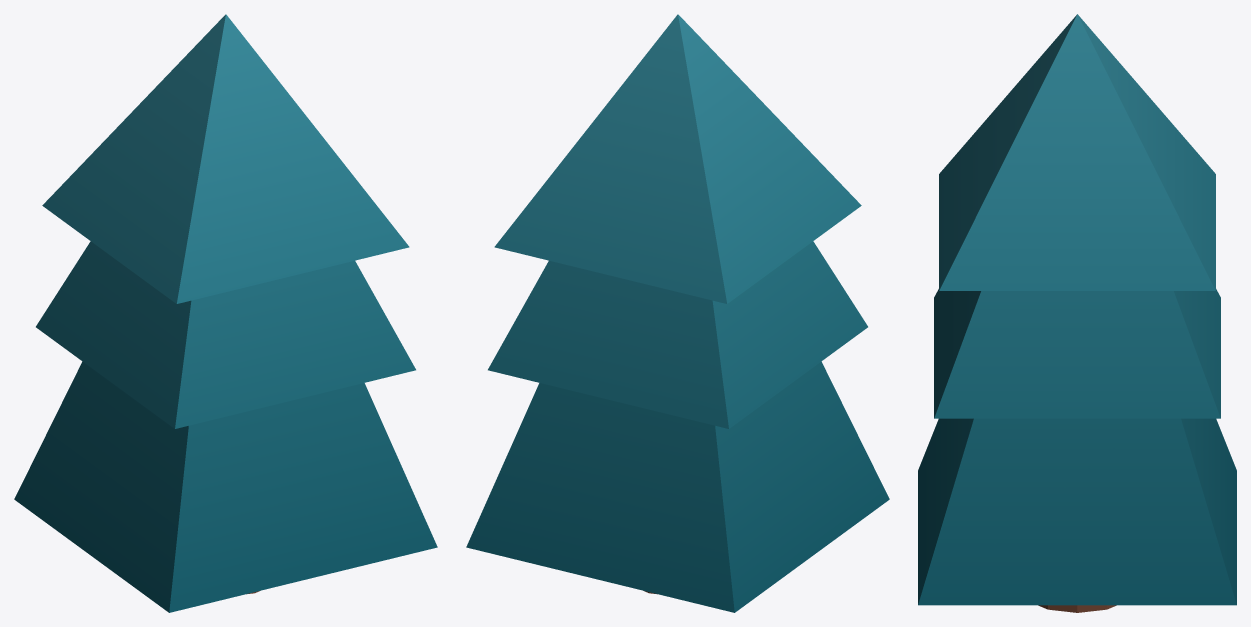
The model's file is Tree_18_gradient_blue_vc.fbx.
3 renders of one model, left to right at view 1: azimuth 30°, elevation 25°; view 2: azimuth 150°, elevation 25°; view 3: azimuth 270°, elevation 25°, orthographic. The views are drawn at different scales.
Visible parts, largest first — view 1: Tree_18_gradient_blue_vc; view 2: Tree_18_gradient_blue_vc; view 3: Tree_18_gradient_blue_vc.
Boxes of the visible parts, <box> form: Tree_18_gradient_blue_vc: <box>14,14,437,612</box>; Tree_18_gradient_blue_vc: <box>466,14,889,612</box>; Tree_18_gradient_blue_vc: <box>918,14,1236,612</box>.
Size of the model in its own units: 95.96 by 191 by 95.96.
